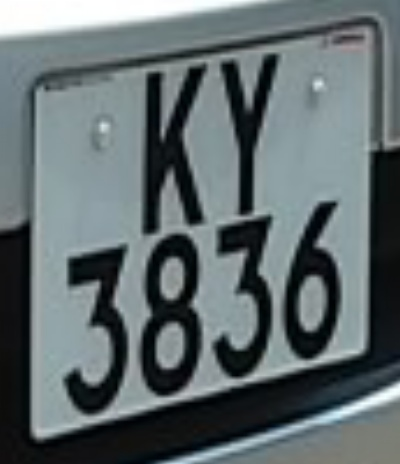3: (45, 227, 140, 426), (201, 214, 282, 387)
6: (281, 193, 355, 367)
8: (127, 227, 213, 405)
K: (127, 59, 217, 237)
Y: (209, 37, 291, 221)
